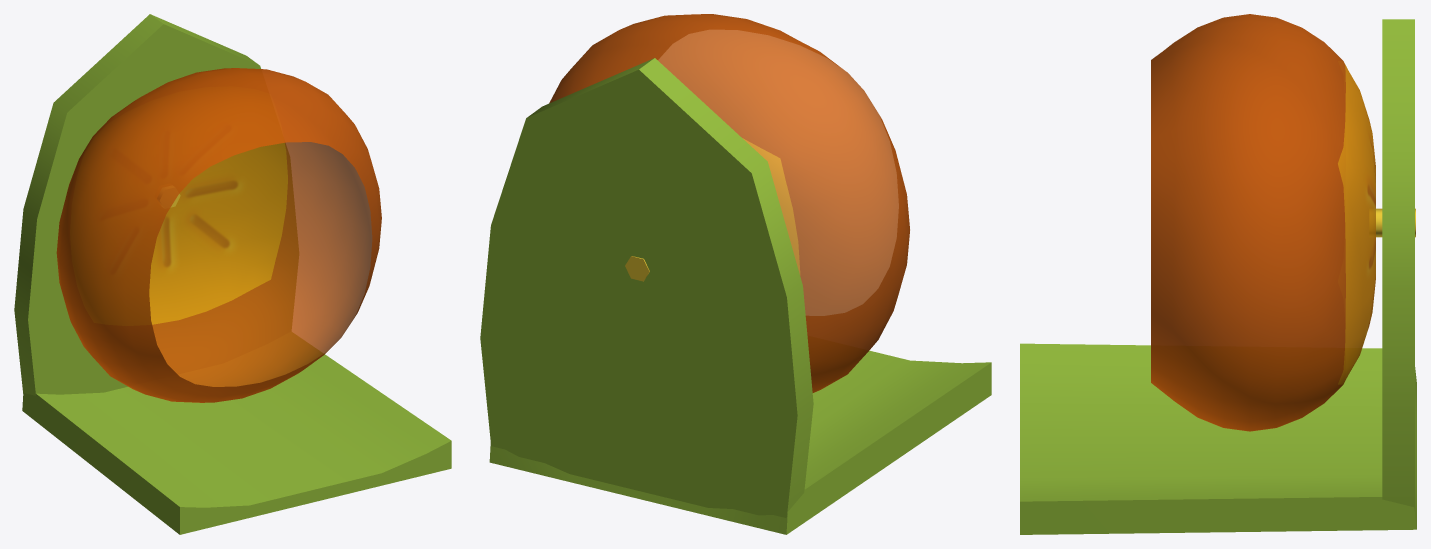
File: mawasiguruma_mawasiguruma.FBX
3 views of the same model, side by side, from view 1: azimuth 30°, elevation 25°; view 2: azimuth 150°, elevation 25°; view 3: azimuth 270°, elevation 25° (orthographic). The views are drawn at different scales.
Visible parts, largest first — view 1: Plane002, Box001; view 2: Plane002, Box001; view 3: Box001, Plane002.
Part boxes in pixels (x1,y1,x2,y2): Plane002: (14, 14, 451, 534); Box001: (56, 68, 381, 402); Plane002: (480, 58, 991, 534); Box001: (549, 14, 909, 392); Box001: (1151, 14, 1375, 431); Plane002: (1020, 19, 1416, 534).
Size of the model in its own units: 75.43 by 88.1 by 72.54.
